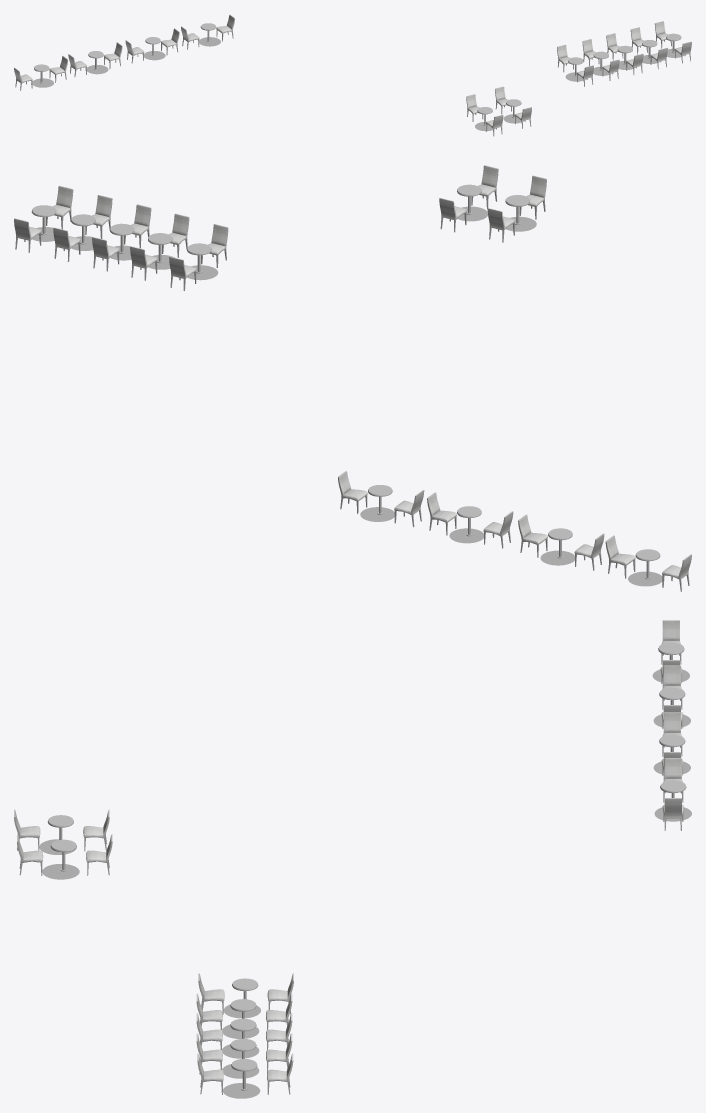
File: table-2people.fbx
3 renders of one model, top to bottom at view 1: azimuth 30°, elevation 25°; view 2: azimuth 150°, elevation 25°; view 3: azimuth 270°, elevation 25°, orthographic. The views are drawn at different scales.
Visible parts, largest first — view 1: table5:chair2Table1, table1:chair2Table1, table11:chair2Table3, table2:chair2Table1, table6:chair2Table1, table:chair2Table1, table9:chair2Table3, table12:chair2Table3, table10:chair2Table3, table3:chair2Table1, table4:chair2Table1; view 2: no part large enough to name; view 3: no part large enough to name.
Part boxes in pixels (x1,y1,x2,y2): table5:chair2Table1: (466,94,483,121); table1:chair2Table1: (582,39,599,65); table11:chair2Table3: (161,28,179,55); table2:chair2Table1: (606,33,623,60); table6:chair2Table1: (495,86,511,114); table:chair2Table1: (557,44,573,72); table9:chair2Table3: (49,56,67,82); table12:chair2Table3: (216,14,234,41); table10:chair2Table3: (104,42,122,68); table3:chair2Table1: (630,27,647,54); table4:chair2Table1: (654,21,671,48).
Size of the model in its own units: 5623 by 457 by 3622.
